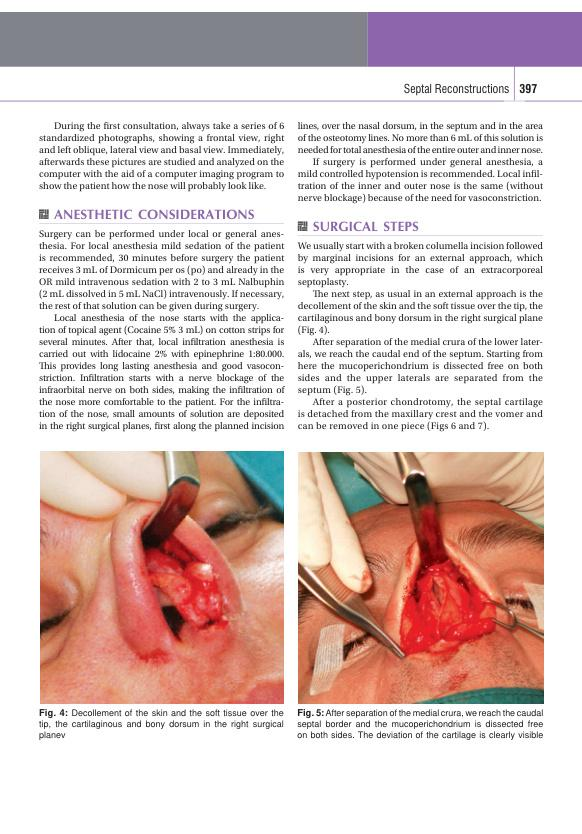caption: (296, 707, 544, 741), (38, 707, 285, 741)
header: (402, 81, 510, 97)
image: (39, 449, 285, 706), (297, 451, 545, 705)
section-heading: (52, 207, 257, 220), (311, 219, 421, 233)
text: (37, 227, 286, 433), (295, 240, 544, 434), (296, 119, 544, 205), (38, 120, 286, 193)
